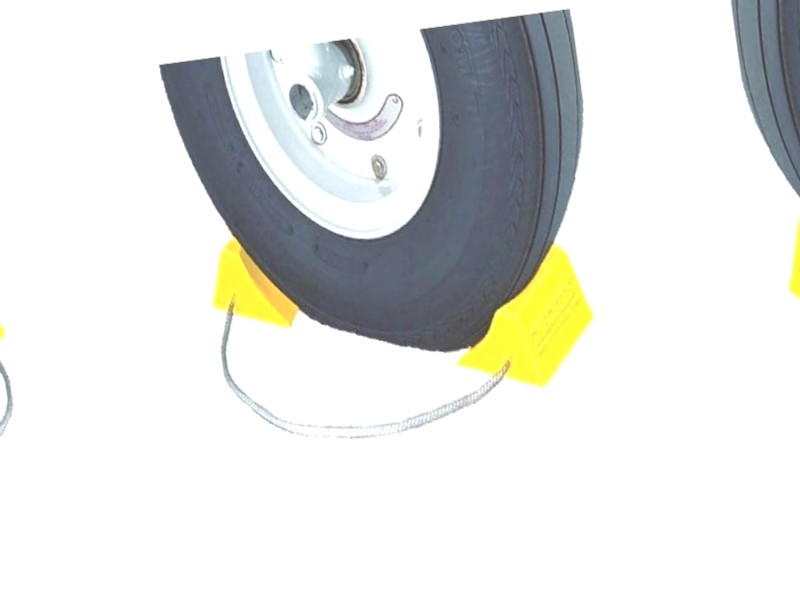chock: (440, 238, 603, 399), (201, 215, 315, 338)
wheel: (157, 10, 617, 388)
